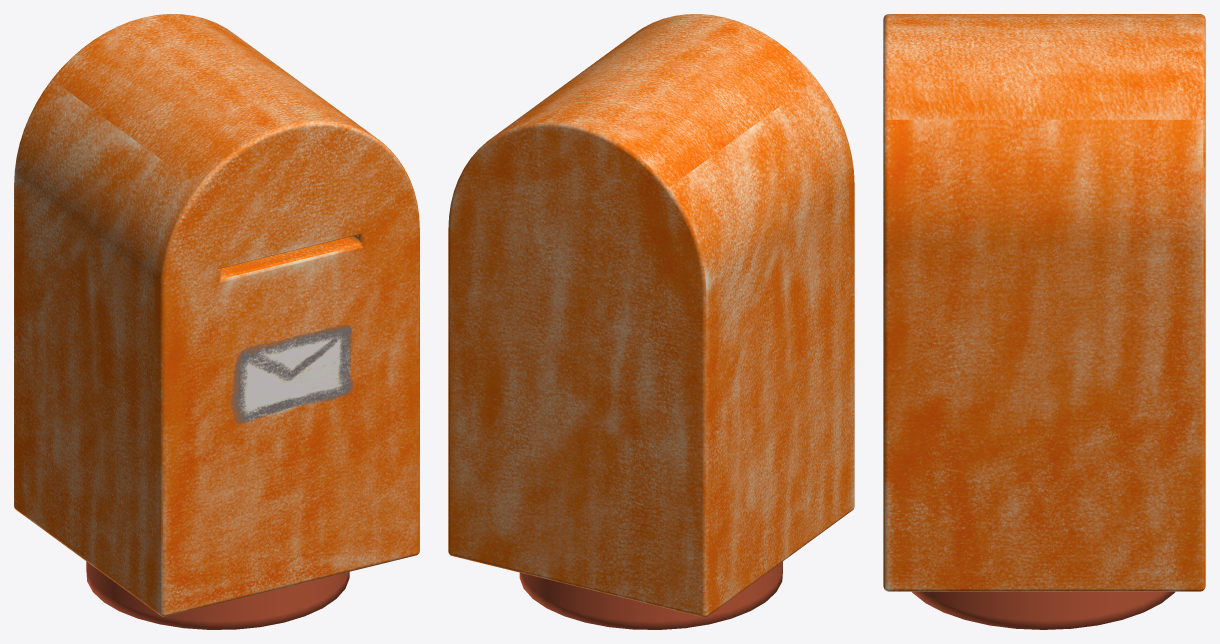
The model's file is postbox5.glb.
3 renders of one model, left to right at view 1: azimuth 30°, elevation 25°; view 2: azimuth 150°, elevation 25°; view 3: azimuth 270°, elevation 25°, orthographic. The views are drawn at different scales.
Visible parts, largest first — view 1: Circle, Cylinder.001; view 2: Circle, Cylinder.001; view 3: Circle, Cylinder.001.
Boxes of the visible parts, box(x1,y1,x2,y2) form: Circle: box(14, 14, 419, 616); Cylinder.001: box(86, 561, 349, 629); Circle: box(448, 14, 854, 617); Cylinder.001: box(519, 561, 782, 629); Circle: box(883, 14, 1205, 591); Cylinder.001: box(912, 591, 1174, 629).
Bounding box in the file's own units: 30 × 56 × 29.99.
2 materials, 1 textured.
